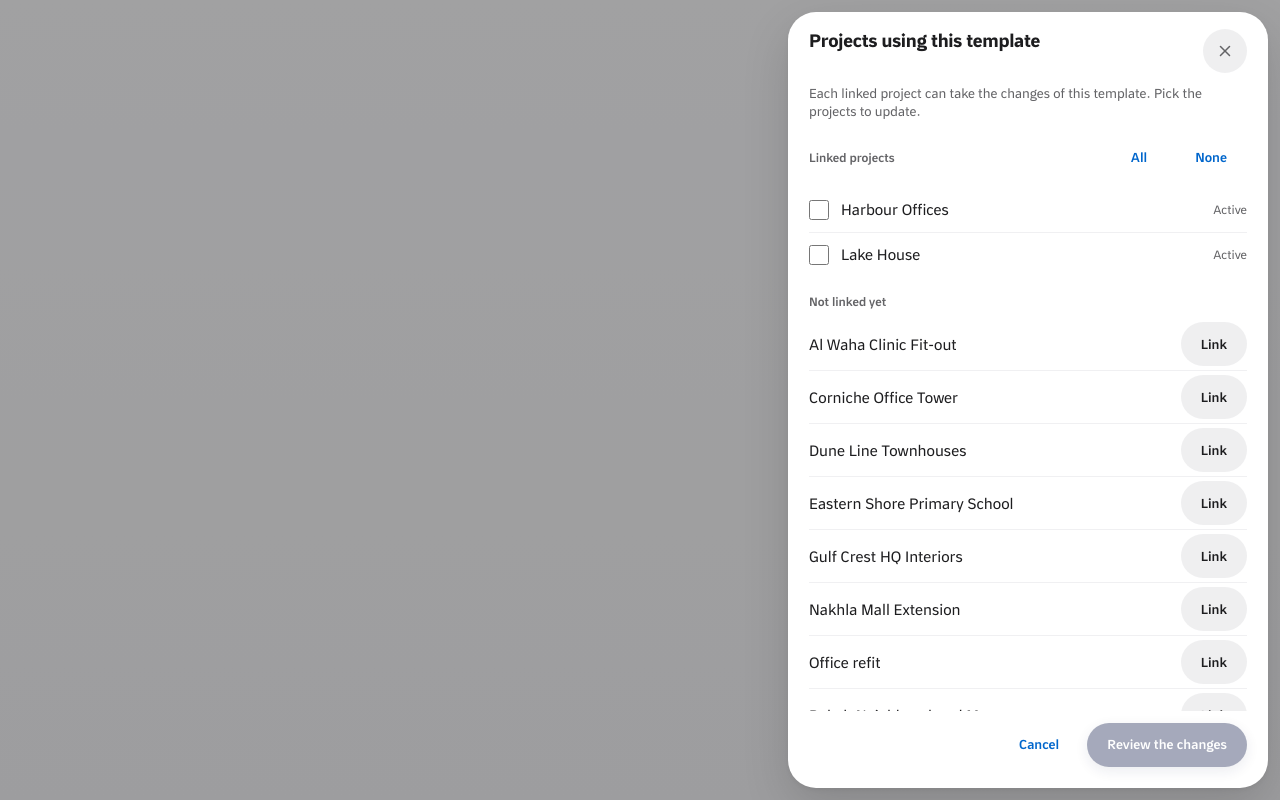
Test: Projects using this template › takes the template for an edited task when the Admin ticks it
Expected: the element "Linked projects" is shown, [809, 136, 1247, 277]
Click the button "All": click(1139, 158) [1111, 136, 1167, 180]
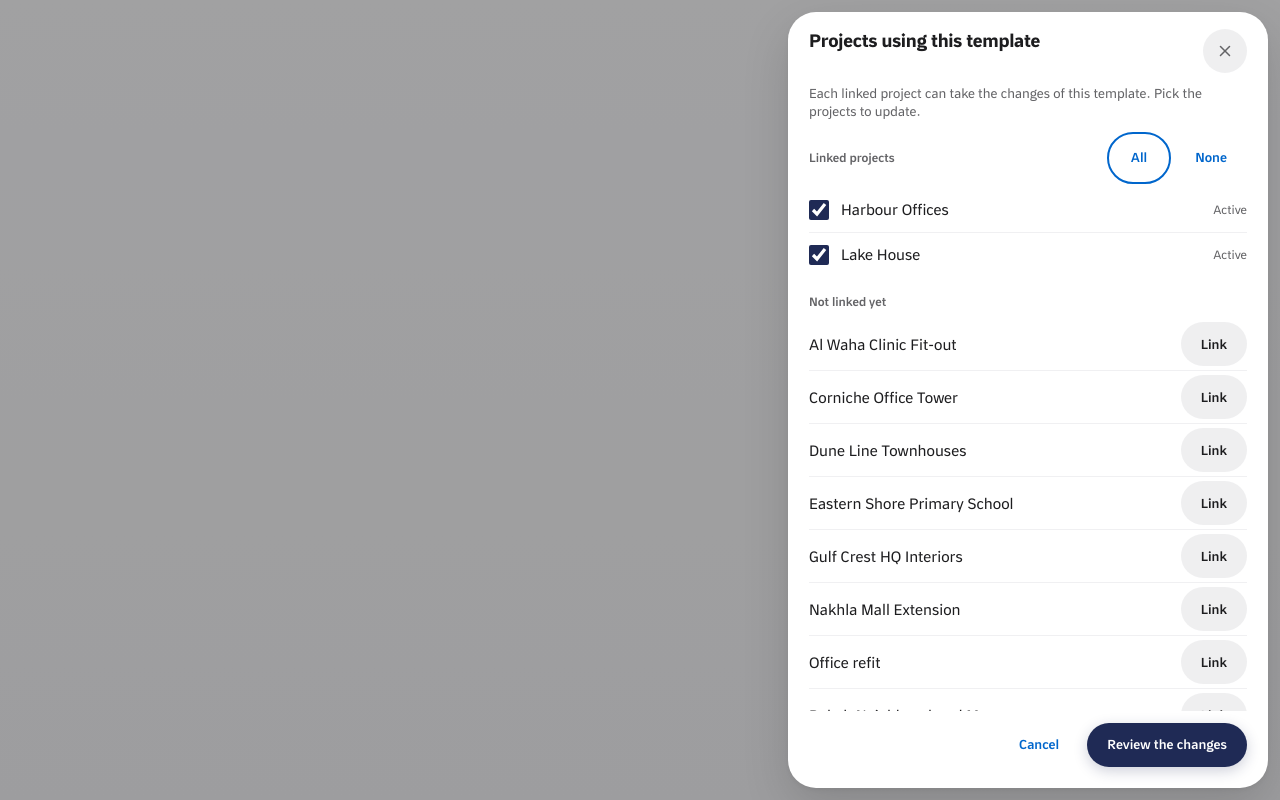
Click the button "Review the changes": click(1167, 745) [1087, 723, 1247, 767]
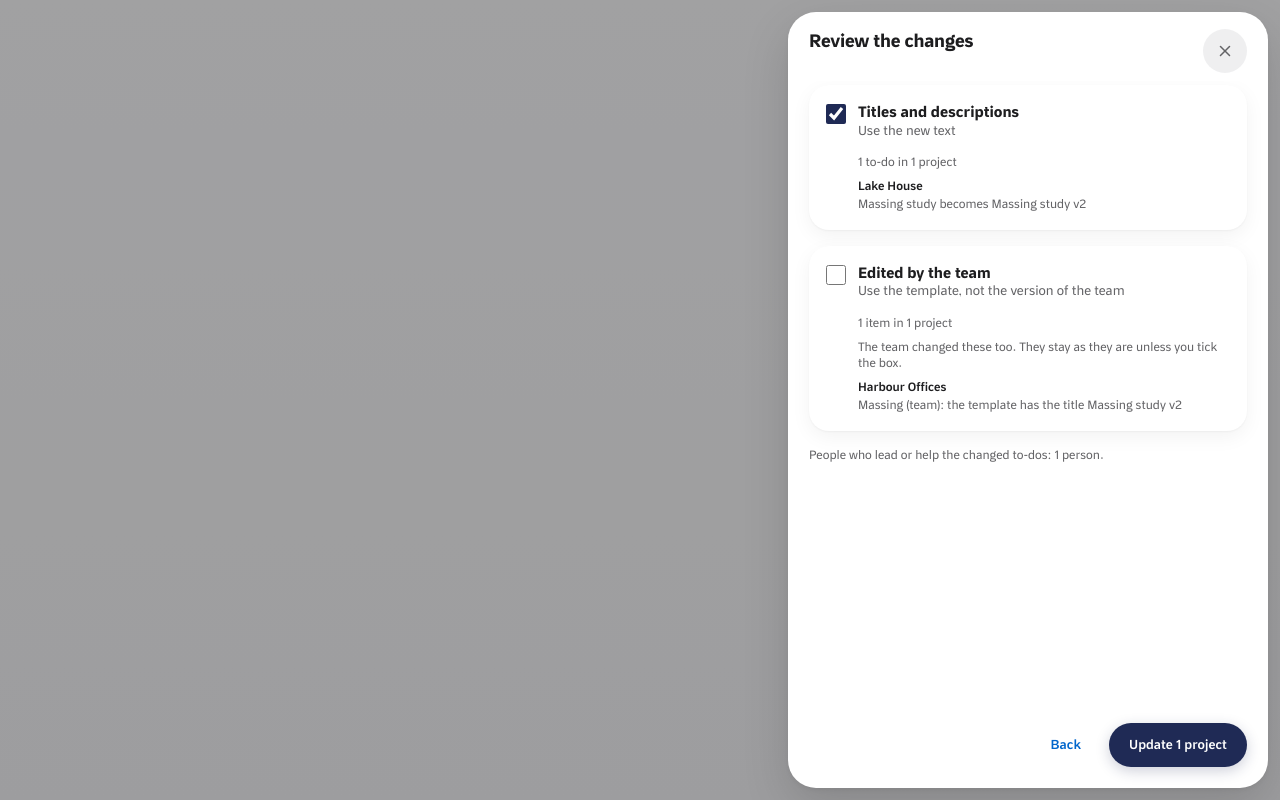
Click the 2nd checkbox: click(836, 275) [826, 265, 846, 285]
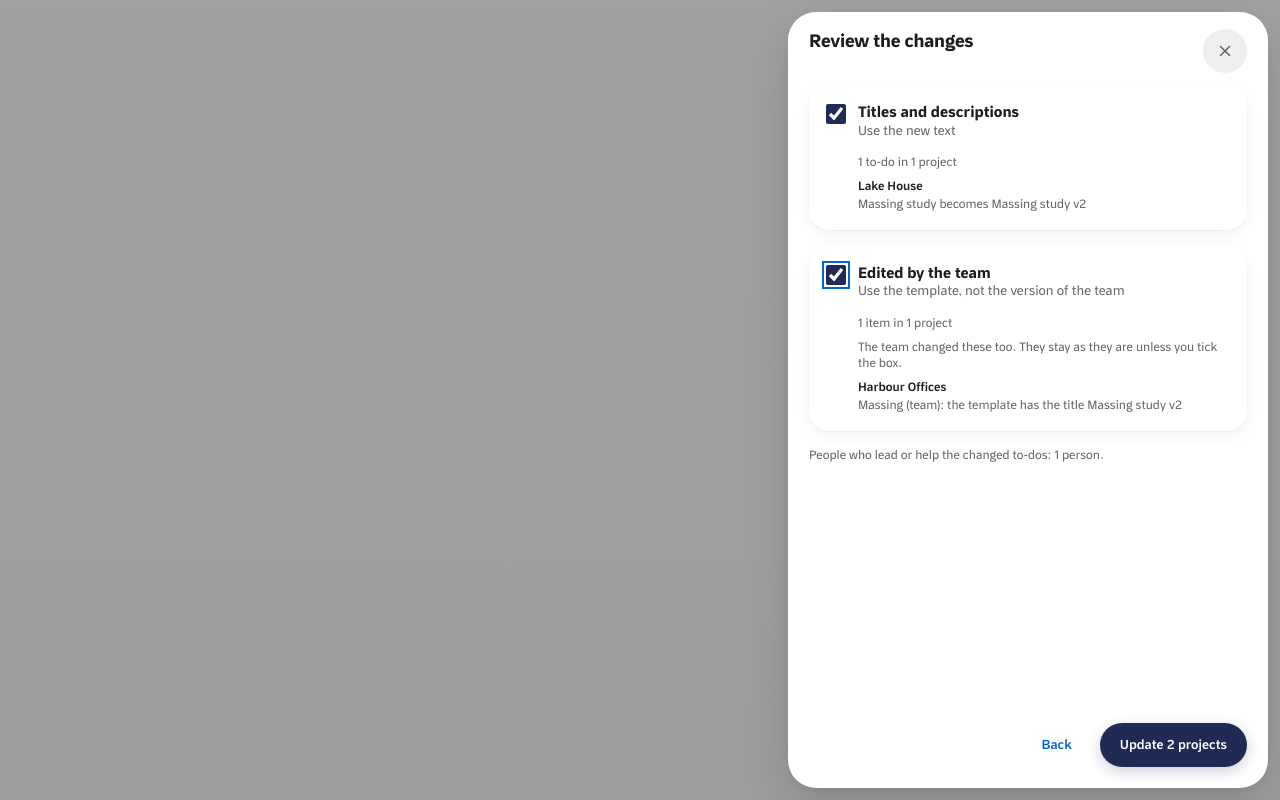
Click the button "Update 2 projects": click(1173, 745) [1100, 723, 1247, 767]
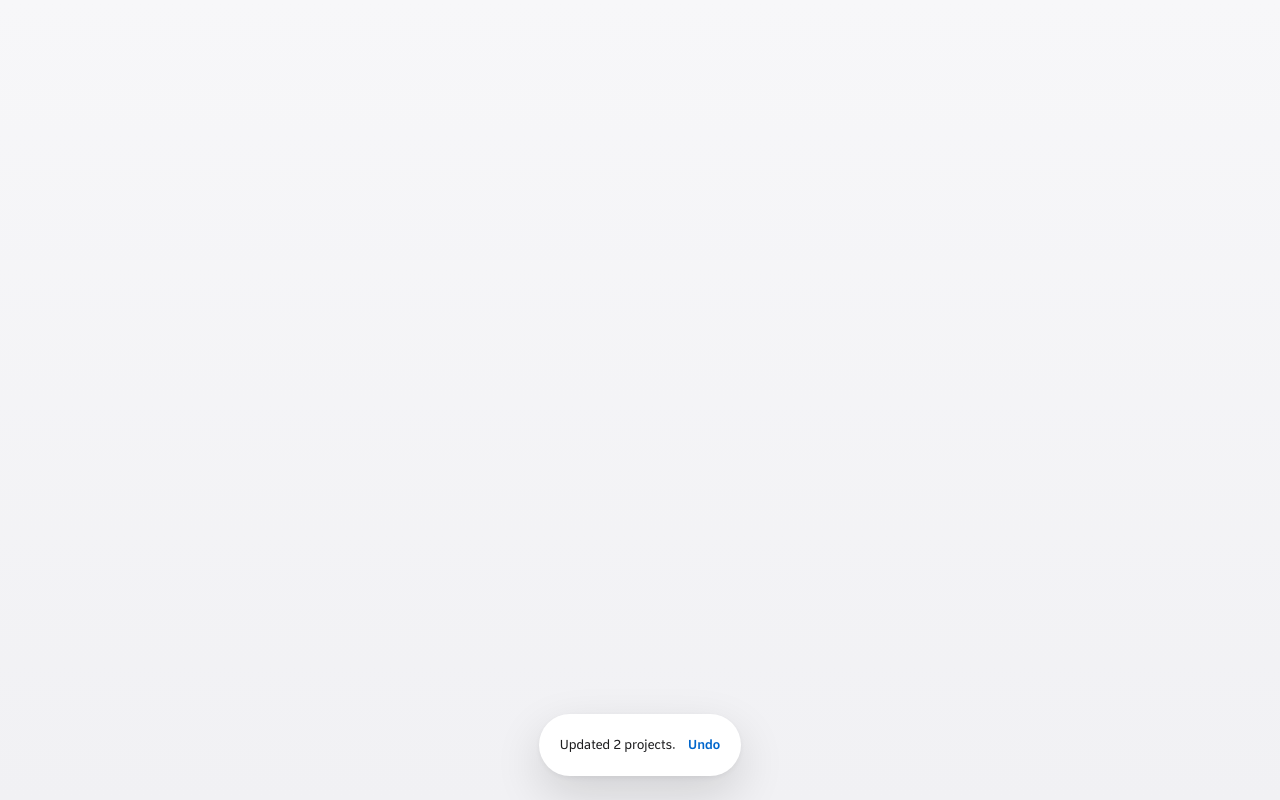
Expected: the text "Updated 2 projects." is shown, [560, 736, 676, 754]
